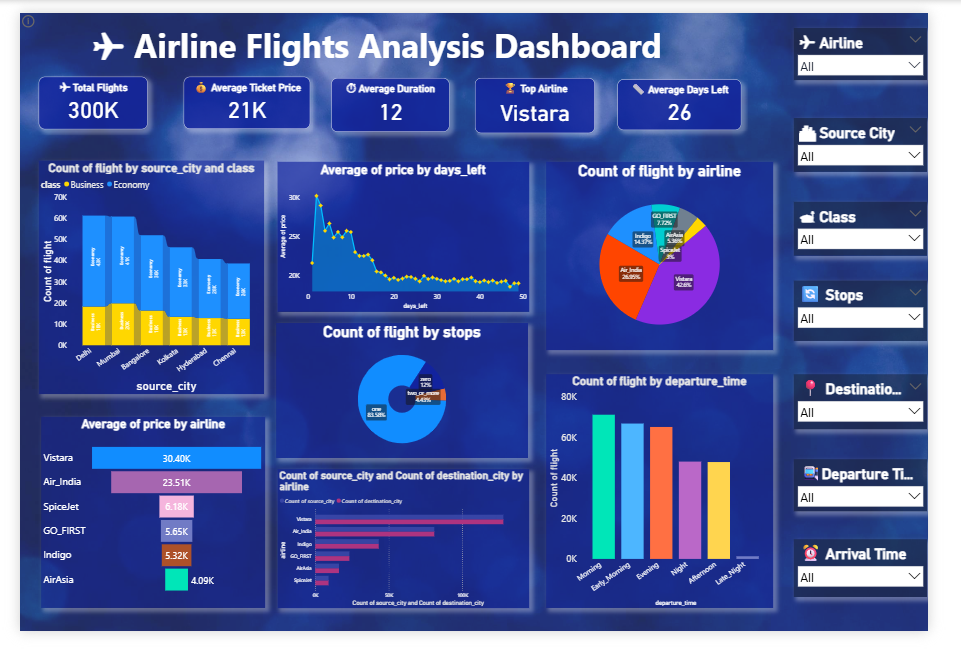

The page's visual inventory and layout, read from the dashboard file:
{"tool":"powerbi","page":{"name":"Page 1","canvas":[2200,1500],"ordinal":0},"visuals":[{"type":"textbox","box":[15,17.5,1707.5,120],"z":0},{"type":"card","title":"✈ Total Flights","fields":{"Values":["airlines_flights_data.Total Flights"]},"box":[46.7,153.3,263.9,127.5],"z":0,"group":"g1"},{"type":"slicer","title":"✈ Airline","fields":{"Values":["airlines_flights_data.airline"]},"box":[1876.7,36.7,323.3,126.7],"z":1000,"group":"g2"},{"type":"columnChart","title":"Count of flight by departure_time","fields":{"Category":["airlines_flights_data.departure_time"],"Y":["CountNonNull(airlines_flights_data.flight)"]},"box":[1276.7,876.7,550,566.7],"z":1000},{"type":"card","title":"🏆 Top Airline","fields":{"Values":["airlines_flights_data.Top Airline"]},"box":[1103.4,155,290,133.3],"z":2000,"group":"g1"},{"type":"columnChart","fields":{"Category":["airlines_flights_data.source_city"],"Y":["CountNonNull(airlines_flights_data.flight)"],"Series":["airlines_flights_data.class"]},"box":[46.7,356.7,546.7,566.7],"z":2000},{"type":"funnel","fields":{"Category":["airlines_flights_data.airline"],"Y":["Avg(airlines_flights_data.price)"]},"box":[50,980,543.3,463.3],"z":3000},{"type":"group","id":"g1","title":"Group 1","box":[46.7,153.3,1703.3,136.7],"z":4000},{"type":"slicer","title":"🛫 Source City","fields":{"Values":["airlines_flights_data.source_city"]},"box":[1876.7,253.4,323.3,130],"z":5000,"group":"g2"},{"type":"lineChart","fields":{"Category":["airlines_flights_data.days_left"],"Y":["Avg(airlines_flights_data.price)"]},"box":[623.3,360,610,363.3],"z":5000},{"type":"donutChart","fields":{"Category":["airlines_flights_data.airline"],"Y":["CountNonNull(airlines_flights_data.flight)"]},"box":[1276.7,360,550,456.7],"z":6000},{"type":"slicer","title":"🛬 Destination City","fields":{"Values":["airlines_flights_data.destination_city"]},"box":[1876.7,876.7,323.3,133.3],"z":6000,"group":"g2"},{"type":"slicer","title":"🎟 Class","fields":{"Values":["airlines_flights_data.class"]},"box":[1876.7,456.7,323.3,130],"z":7000,"group":"g2"},{"type":"clusteredBarChart","fields":{"Category":["airlines_flights_data.airline"],"Y":["CountNonNull(airlines_flights_data.source_city)","CountNonNull(airlines_flights_data.destination_city)"]},"box":[623.3,1106.7,610,336.7],"z":7000},{"type":"actionButton","box":[0,0,100,40],"z":8000},{"type":"slicer","title":"🎟 Class","fields":{"Values":["airlines_flights_data.stops"]},"box":[1876.7,650,323.3,146.7],"z":8000,"group":"g2"},{"type":"donutChart","fields":{"Y":["CountNonNull(airlines_flights_data.flight)"],"Category":["airlines_flights_data.stops"]},"box":[622.5,750,610,327.5],"z":9000},{"type":"group","id":"g2","title":"Group 2","box":[1876.7,36.7,323.3,1380],"z":10000},{"type":"slicer","title":"🛬 Destination City","fields":{"Values":["airlines_flights_data.departure_time"]},"box":[1876.7,1083.4,323.3,126.7],"z":10000,"group":"g2"},{"type":"card","title":"💰 Average Ticket Price","fields":{"Values":["airlines_flights_data.Average Ticket Price"]},"box":[397.8,154.8,306.7,126.7],"z":11000,"group":"g1"},{"type":"slicer","title":"🛬 Destination City","fields":{"Values":["airlines_flights_data.arrival_time"]},"box":[1876.7,1276.7,323.3,140],"z":11000,"group":"g2"},{"type":"card","title":"⏱  Average Duration","fields":{"Values":["airlines_flights_data.Average Duration"]},"box":[756.7,155,286.7,130],"z":12000,"group":"g1"},{"type":"card","title":"📏 Average Days Left","fields":{"Values":["airlines_flights_data.Average Days Left"]},"box":[1450,158.7,300,123.3],"z":13000,"group":"g1"}]}

Visuals, with their boxes in screenshot pixels (x1, y1, x2, y2), scaled from the page's 2200x1500 canvas onto the 961x666 screenshot:
textbox: detection(7, 8, 752, 61)
"✈ Total Flights" card: detection(20, 68, 136, 125)
"✈ Airline" slicer: detection(820, 16, 960, 73)
"Count of flight by departure_time" columnChart: detection(558, 389, 798, 641)
"🏆 Top Airline" card: detection(482, 69, 609, 128)
columnChart - airlines_flights_data.source_city x CountNonNull(airlines_flights_data.flight): detection(20, 158, 259, 410)
funnel - airlines_flights_data.airline x Avg(airlines_flights_data.price): detection(22, 435, 259, 641)
"Group 1" group: detection(20, 68, 764, 129)
"🛫 Source City" slicer: detection(820, 113, 960, 170)
lineChart - airlines_flights_data.days_left x Avg(airlines_flights_data.price): detection(272, 160, 539, 321)
donutChart - airlines_flights_data.airline x CountNonNull(airlines_flights_data.flight): detection(558, 160, 798, 363)
"🛬 Destination City" slicer: detection(820, 389, 960, 448)
"🎟 Class" slicer: detection(820, 203, 960, 260)
clusteredBarChart - airlines_flights_data.airline x CountNonNull(airlines_flights_data.source_city): detection(272, 491, 539, 641)
actionButton: detection(0, 0, 44, 18)
"🎟 Class" slicer: detection(820, 289, 960, 354)
donutChart - CountNonNull(airlines_flights_data.flight) x airlines_flights_data.stops: detection(272, 333, 538, 478)
"Group 2" group: detection(820, 16, 960, 629)
"🛬 Destination City" slicer: detection(820, 481, 960, 537)
"💰 Average Ticket Price" card: detection(174, 69, 308, 125)
"🛬 Destination City" slicer: detection(820, 567, 960, 629)
"⏱  Average Duration" card: detection(331, 69, 456, 127)
"📏 Average Days Left" card: detection(633, 70, 764, 125)
